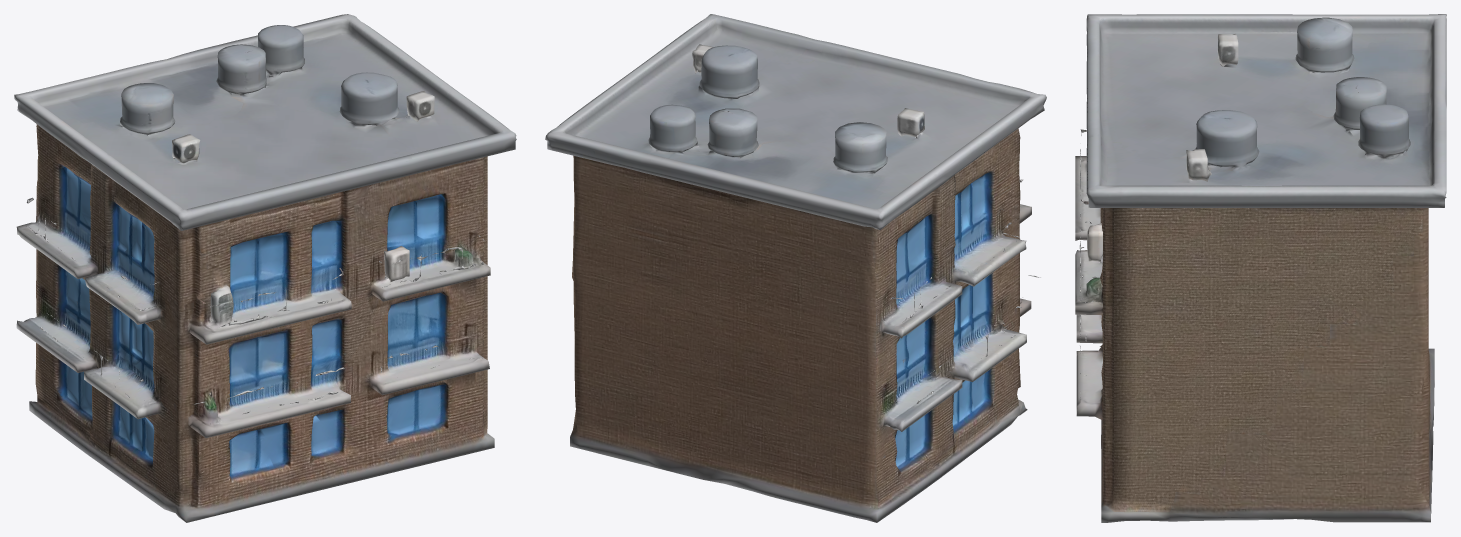
Rendered from h_apartment.glb.
3 renders of one model, left to right at view 1: azimuth 30°, elevation 25°; view 2: azimuth 150°, elevation 25°; view 3: azimuth 270°, elevation 25°, orthographic. The views are drawn at different scales.
Parts seen in each view (by area): view 1: model; view 2: model; view 3: model.
Part boxes in pixels (left/top/right/bottom): model: left=14, top=14, right=516, bottom=522; model: left=545, top=14, right=1046, bottom=522; model: left=1075, top=14, right=1446, bottom=522.
Size of the model in its own units: 1.88 by 1.76 by 1.61.
Materials: 1 (1 with a texture image).
